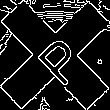P_NW: (25, 24, 85, 86)
